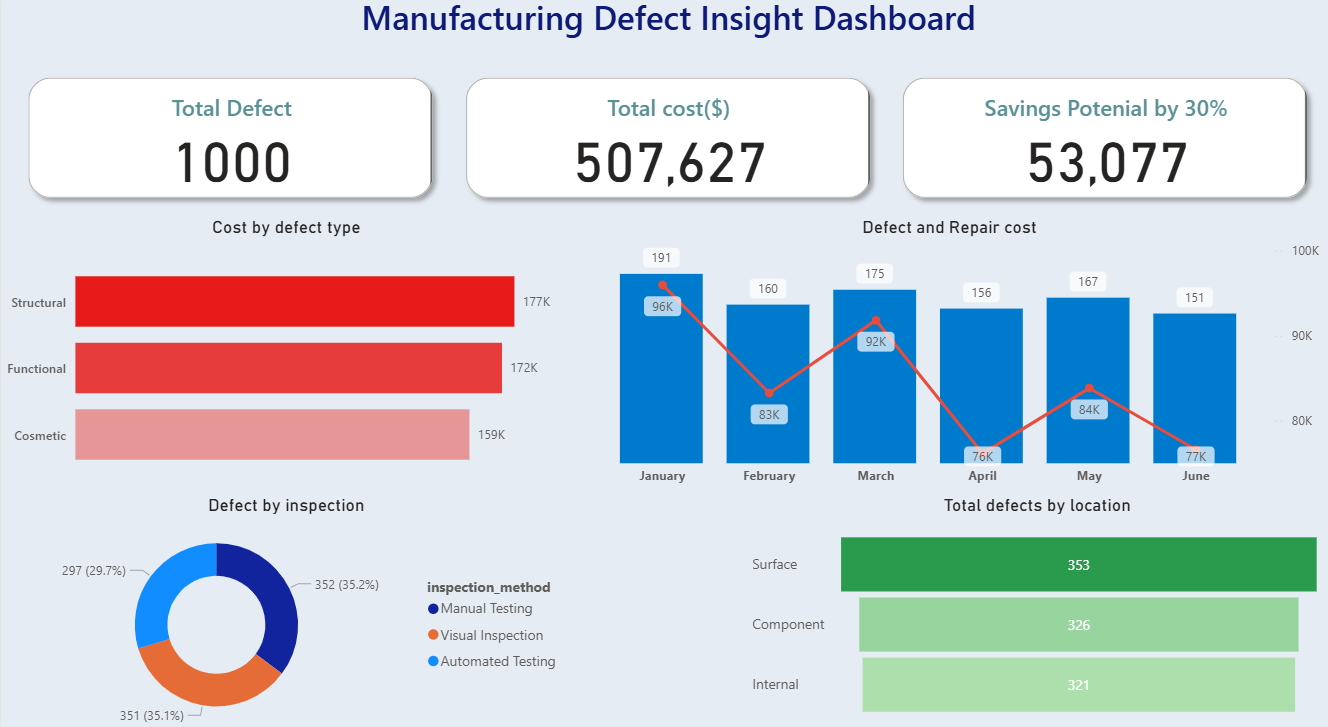

This screenshot's page, from the dashboard's own definition file:
{"tool":"powerbi","page":{"name":"Page 2","canvas":[1280,720],"ordinal":0},"visuals":[{"type":"textbox","box":[10.1,0,1269.6,69.3],"z":0},{"type":"cardVisual","fields":{"Data":["defects_data.Total Defect","defects_data.Total cost","defects_data.Estimated Savings"]},"box":[10.1,69.3,1269.6,150],"z":1000},{"type":"lineStackedColumnComboChart","title":"Defect and Repair cost","fields":{"Category":["defects_data.Month Name"],"Y":["defects_data.Total Defect"],"Y2":["defects_data.Total cost"]},"box":[551.1,219.3,728.6,268.4],"z":2000},{"type":"barChart","title":"Cost  by defect type","fields":{"Y":["defects_data.Total cost"],"Category":["defects_data.defect_type"]},"box":[0,219.3,551.1,268.4],"z":3000},{"type":"donutChart","title":"Defect by inspection","fields":{"Category":["defects_data.inspection_method"],"Y":["defects_data.Total Defect"]},"box":[0,487.7,551.1,233.7],"z":4000},{"type":"funnel","title":"Total defects by location","fields":{"Y":["defects_data.Total Defect"],"Category":["defects_data.defect_location"]},"box":[719.9,487.7,559.8,232.3],"z":5000}]}

Visuals, with their boxes in screenshot pixels (x1, y1, x2, y2), scaled from the page's 1280x720 canvas onto the 1328x727 screenshot:
textbox: pyautogui.locateOnScreen(10, 0, 1327, 70)
cardVisual - defects_data.Total Defect x defects_data.Total cost: pyautogui.locateOnScreen(10, 70, 1327, 221)
"Defect and Repair cost" lineStackedColumnComboChart: pyautogui.locateOnScreen(572, 221, 1327, 492)
"Cost  by defect type" barChart: pyautogui.locateOnScreen(0, 221, 572, 492)
"Defect by inspection" donutChart: pyautogui.locateOnScreen(0, 492, 572, 726)
"Total defects by location" funnel: pyautogui.locateOnScreen(747, 492, 1327, 726)
